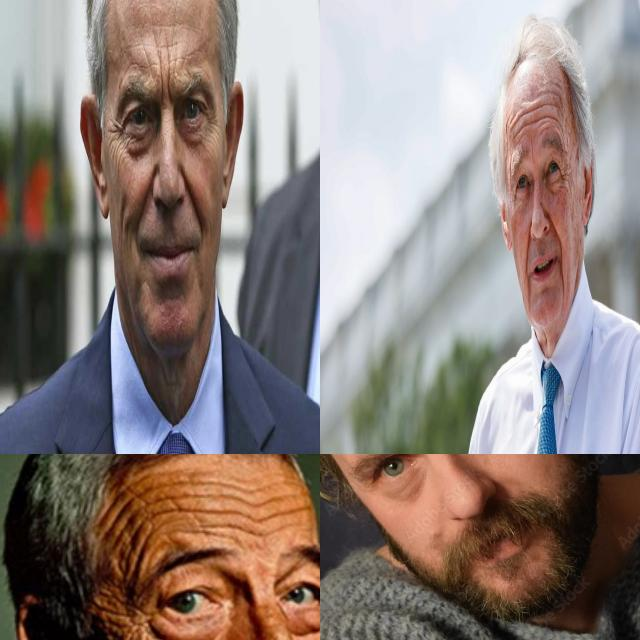crows_feet: (116, 593, 149, 640), (109, 119, 123, 161), (204, 111, 217, 152), (560, 166, 570, 197), (511, 188, 518, 210)
forehead: (102, 498, 144, 550), (196, 474, 238, 522), (150, 476, 190, 516), (280, 474, 310, 524), (246, 492, 278, 536), (144, 30, 181, 60), (526, 99, 541, 133), (544, 94, 558, 130), (510, 108, 524, 138), (122, 53, 140, 72)
frown_line: (158, 57, 171, 109), (530, 137, 536, 165)
gummy_smile: (184, 170, 200, 220), (138, 170, 153, 223), (548, 212, 562, 248), (524, 227, 532, 269)
masseter: (118, 192, 130, 252)
sad_smile: (526, 277, 534, 312), (559, 268, 566, 302)
